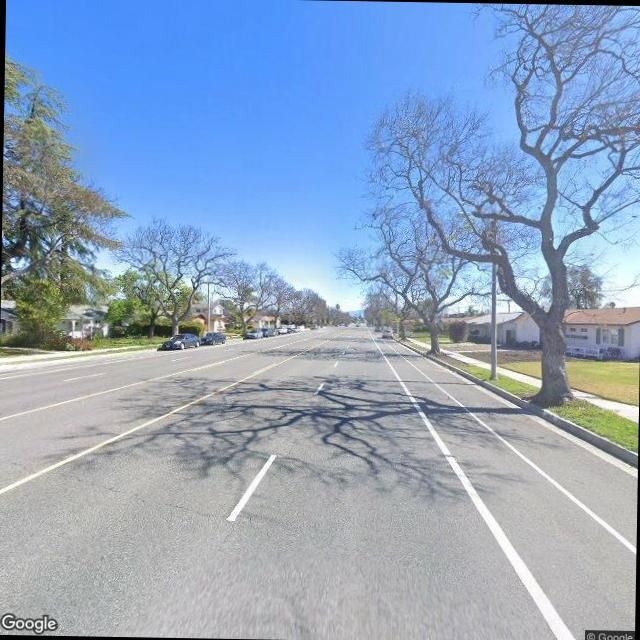crack: (36, 468, 232, 524)
